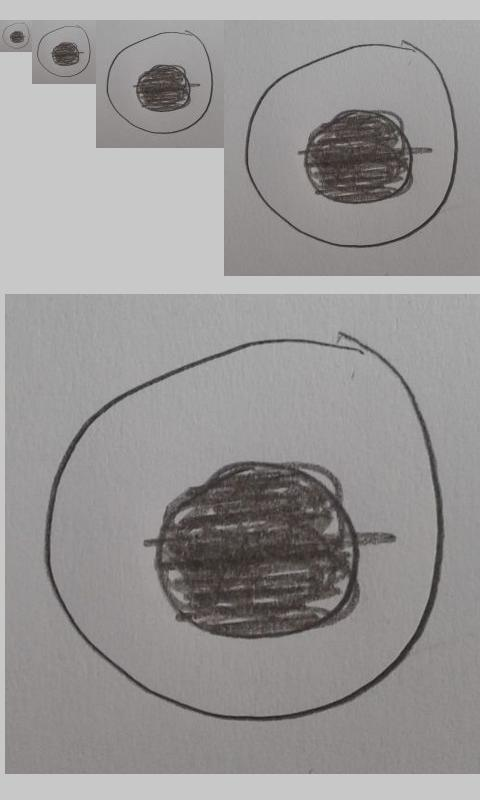radio_button: (42, 328, 448, 728), (243, 40, 460, 250), (105, 29, 214, 135), (36, 24, 91, 78), (1, 22, 31, 50)
